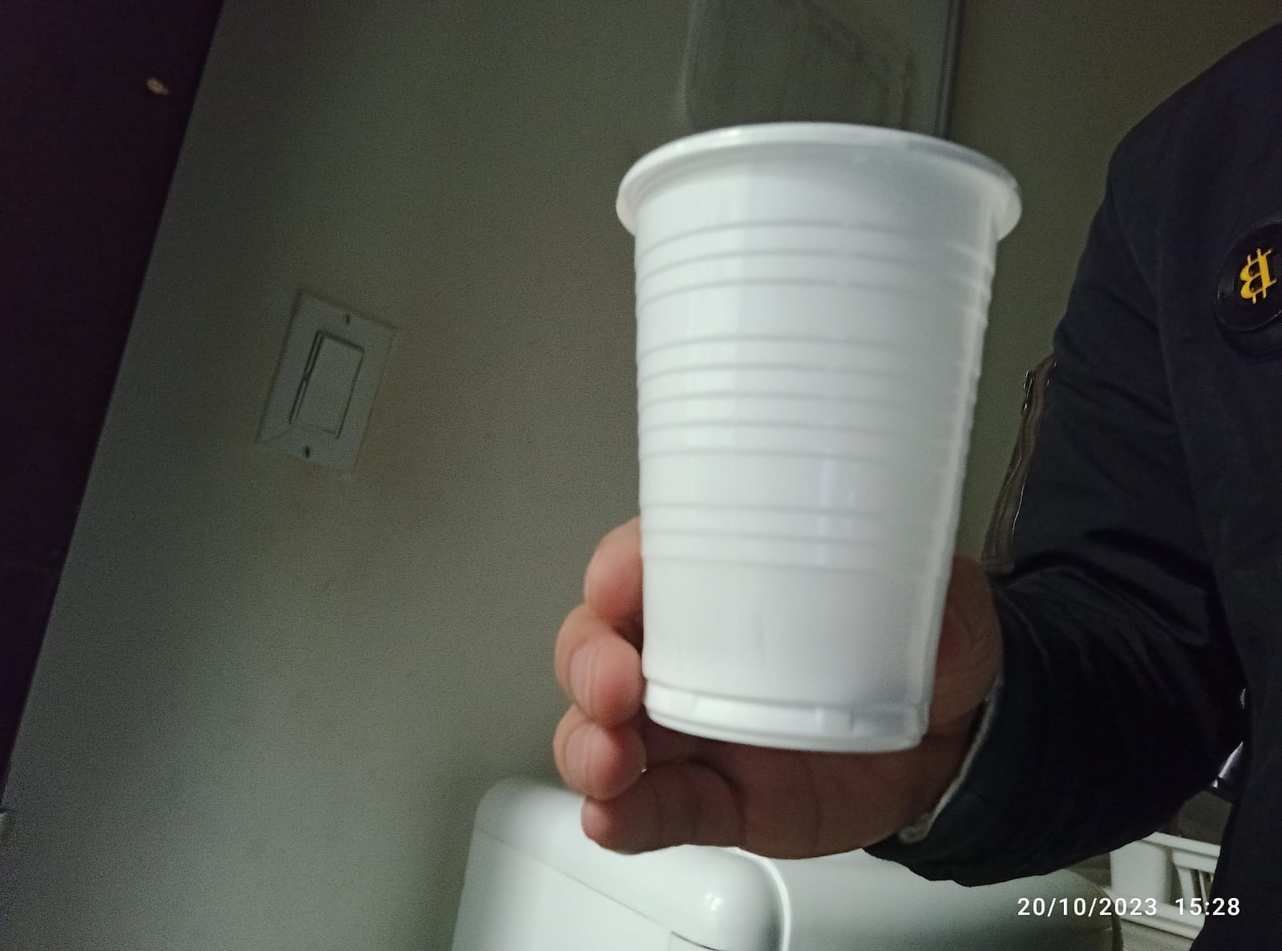Plastico: (617, 122, 1022, 753)
